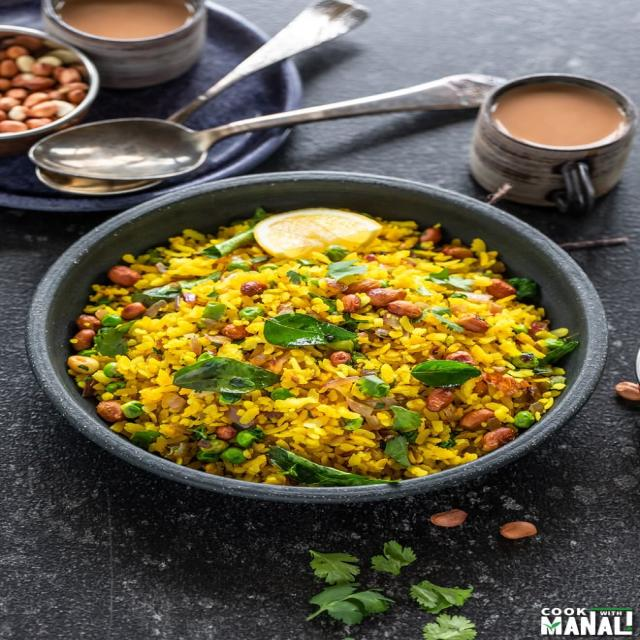POHA: (65, 213, 570, 477)
